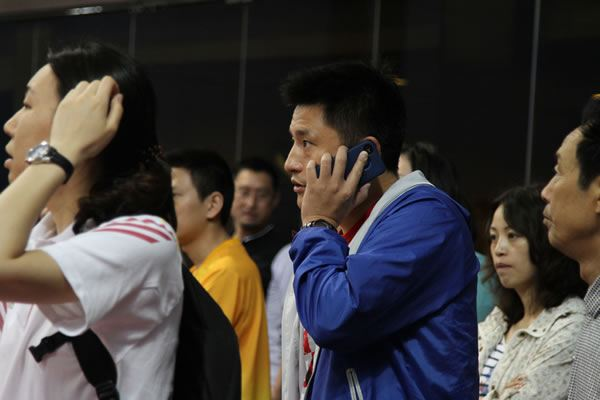calling: (297, 138, 386, 219)
